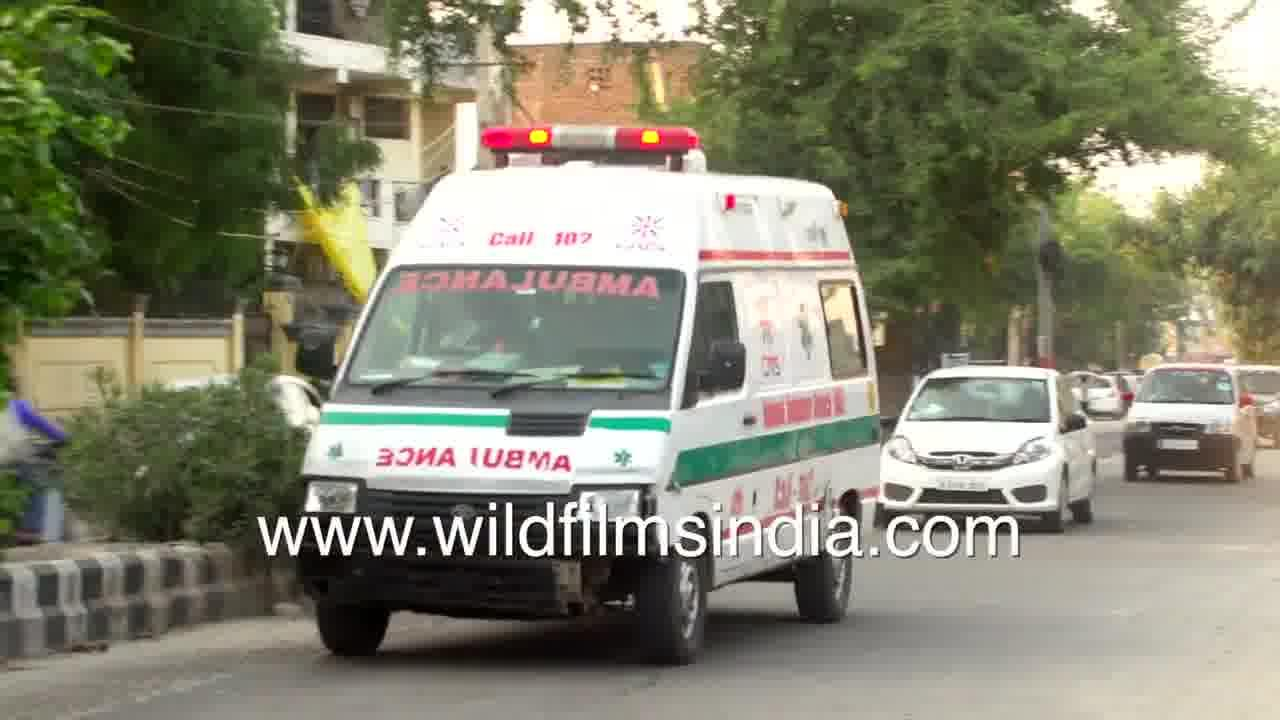AMBULANCE: (301, 116, 900, 505)
